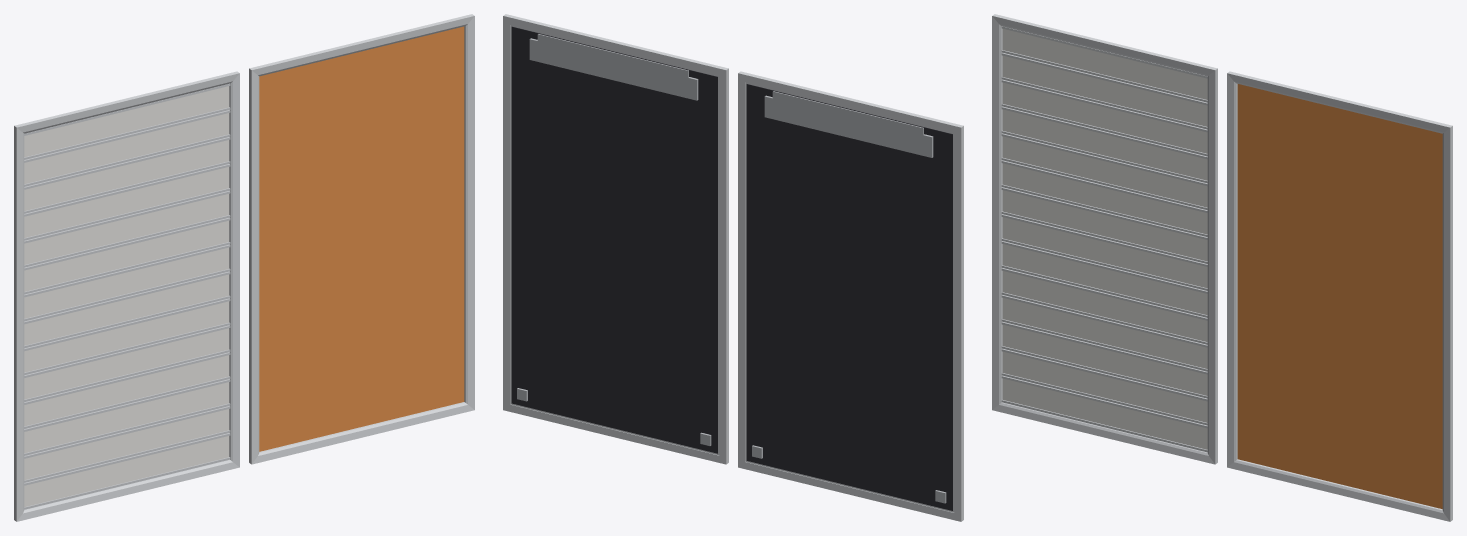
Rendered from wall-track-board-tall.glb.
3 renders of one model, left to right at view 1: azimuth 30°, elevation 25°; view 2: azimuth 150°, elevation 25°; view 3: azimuth 330°, elevation 25°, orthographic.
Visible parts, largest first — view 1: Poster_Face, Poster_SnapFrame, Tall_SnapFrame, Tall_Strip_05, Tall_Strip_04, Tall_Strip_02, Tall_Strip_03, Tall_Strip_06, Tall_Strip_08, Tall_Strip_09, Tall_Strip_10, Tall_Strip_00 (+19 smaller); view 2: Tall_Backing, Poster_Backing, Poster_SnapFrame, Tall_SnapFrame, Poster_HW_Cleat, Tall_HW_Cleat, Tall_HW_Flange, Poster_HW_Flange; view 3: Poster_Face, Poster_SnapFrame, Tall_SnapFrame, Tall_Strip_05, Tall_Strip_08, Tall_Strip_09, Tall_Strip_10, Tall_Strip_11, Tall_Strip_00, Tall_Strip_02, Tall_Strip_03, Tall_Strip_06 (+19 smaller).
Part boxes in pixels (<box>): Poster_Face: <box>259,26,464,451</box>; Poster_SnapFrame: <box>249,14,474,464</box>; Tall_SnapFrame: <box>14,71,239,521</box>; Tall_Strip_05: <box>24,301,229,372</box>; Tall_Strip_04: <box>24,328,229,399</box>; Tall_Strip_02: <box>24,382,229,453</box>; Tall_Strip_03: <box>24,355,229,426</box>; Tall_Strip_06: <box>24,274,229,345</box>; Tall_Strip_08: <box>24,220,229,291</box>; Tall_Strip_09: <box>24,194,229,264</box>; Tall_Strip_10: <box>24,167,229,237</box>; Tall_Strip_00: <box>24,436,229,506</box>; Tall_Backing: <box>746,84,952,510</box>; Poster_Backing: <box>511,26,717,453</box>; Poster_SnapFrame: <box>503,14,728,464</box>; Tall_SnapFrame: <box>738,71,963,521</box>; Poster_HW_Cleat: <box>529,38,698,100</box>; Tall_HW_Cleat: <box>764,95,933,157</box>; Tall_HW_Flange: <box>772,91,923,135</box>; Poster_HW_Flange: <box>537,34,688,77</box>; Poster_Face: <box>1237,84,1442,508</box>; Poster_SnapFrame: <box>1227,71,1452,521</box>; Tall_SnapFrame: <box>992,14,1217,464</box>; Tall_Strip_05: <box>1002,244,1207,315</box>; Tall_Strip_08: <box>1002,163,1207,234</box>; Tall_Strip_09: <box>1002,136,1207,207</box>; Tall_Strip_10: <box>1002,109,1207,180</box>; Tall_Strip_11: <box>1002,82,1207,153</box>; Tall_Strip_00: <box>1002,378,1207,449</box>; Tall_Strip_02: <box>1002,325,1207,395</box>; Tall_Strip_03: <box>1002,298,1207,368</box>; Tall_Strip_06: <box>1002,217,1207,288</box>.
Bounding box in the file's own units: 4.62 × 3.8 × 0.073.
